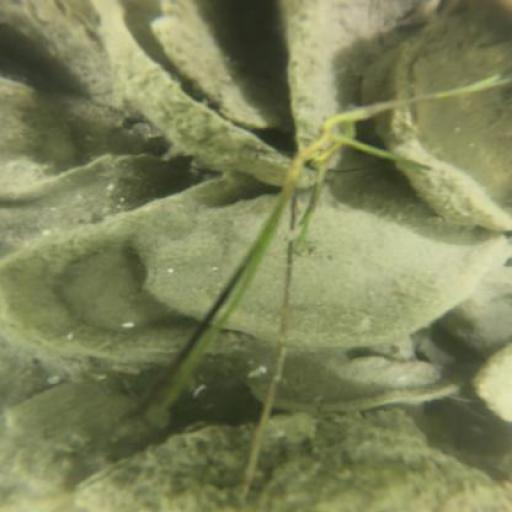Oyster-Closed: (66, 413, 506, 512), (289, 210, 487, 349), (12, 380, 177, 498), (1, 1, 133, 118), (153, 8, 263, 125), (146, 208, 259, 319), (2, 82, 72, 170), (443, 265, 508, 355), (477, 346, 510, 422)
Oyster-Open: (243, 350, 460, 414)
